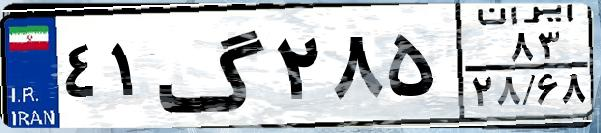1: (110, 28, 156, 98)
2: (270, 28, 330, 110), (470, 70, 495, 125)
3: (537, 27, 568, 80)
4: (57, 26, 110, 100)
5: (385, 28, 445, 110)
6: (535, 70, 560, 125)
8: (330, 28, 385, 110), (560, 70, 590, 125), (508, 27, 537, 80), (495, 70, 520, 125)
گ: (156, 12, 270, 120)
